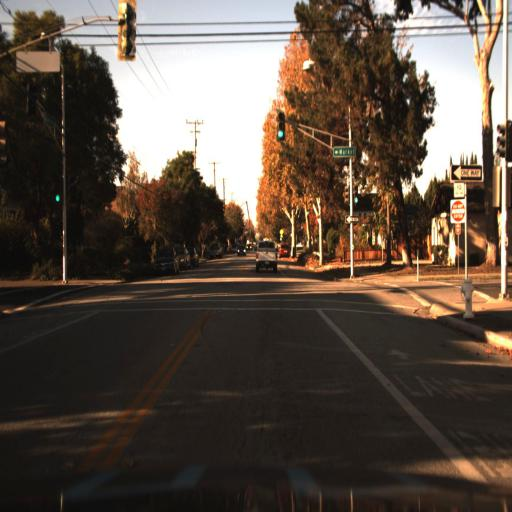car: (146, 240, 178, 282), (253, 232, 277, 278), (175, 242, 191, 274), (276, 240, 291, 262), (236, 240, 249, 260), (188, 245, 199, 267), (244, 241, 252, 254)
trafficLight-Green: (349, 190, 361, 209), (275, 117, 284, 142)
